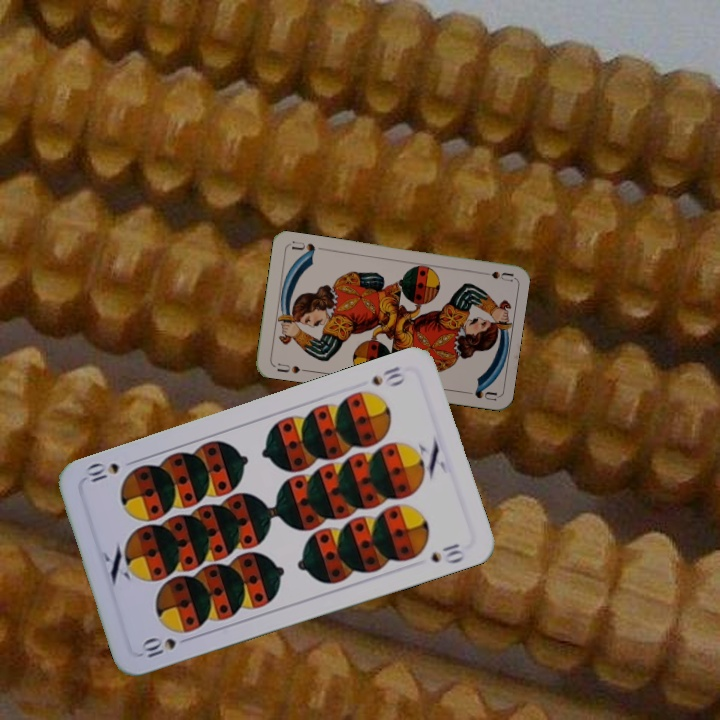S10: (137, 634, 179, 661), (368, 362, 407, 390)
SU: (474, 267, 514, 284), (273, 359, 310, 376)
